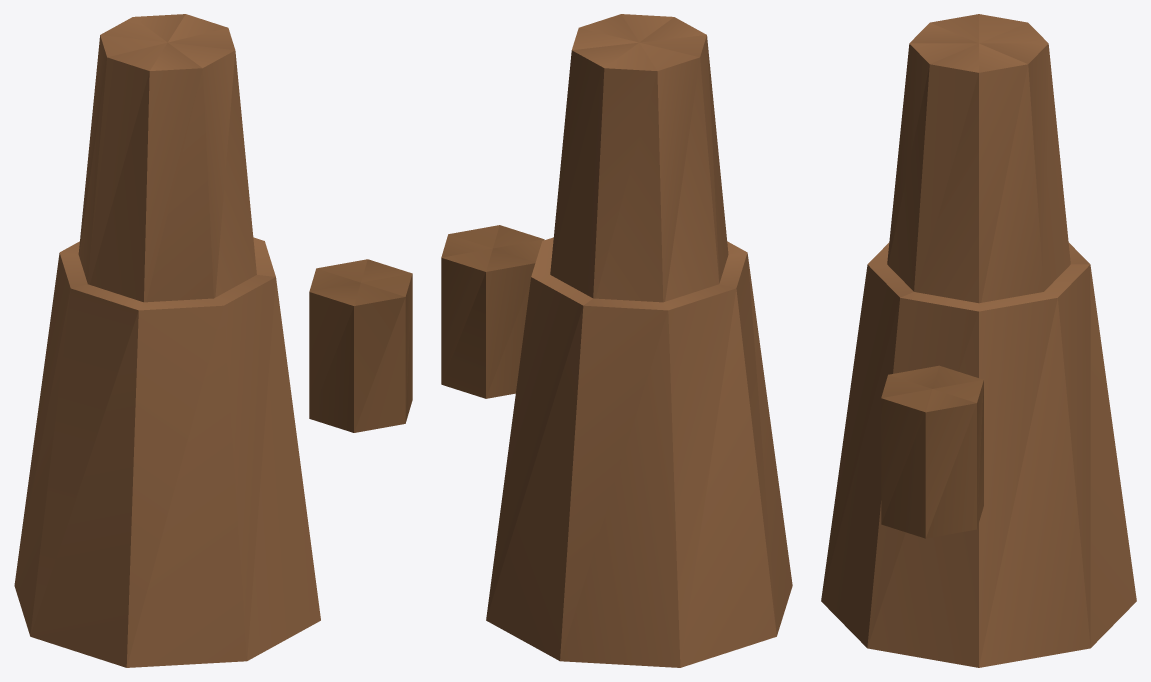
The model's file is tata-somba.glb.
3 views of the same model, side by side, from view 1: azimuth 30°, elevation 25°; view 2: azimuth 150°, elevation 25°; view 3: azimuth 270°, elevation 25° (orthographic).
Parts seen in each view (by area): view 1: tata-somba; view 2: tata-somba; view 3: tata-somba.
Part boxes in pixels (x1,y1,x2,y2): tata-somba: (14,14,412,667); tata-somba: (441,14,792,667); tata-somba: (821,14,1136,667).
Bounding box in the file's own units: 0.8791 × 1.33 × 0.68.
